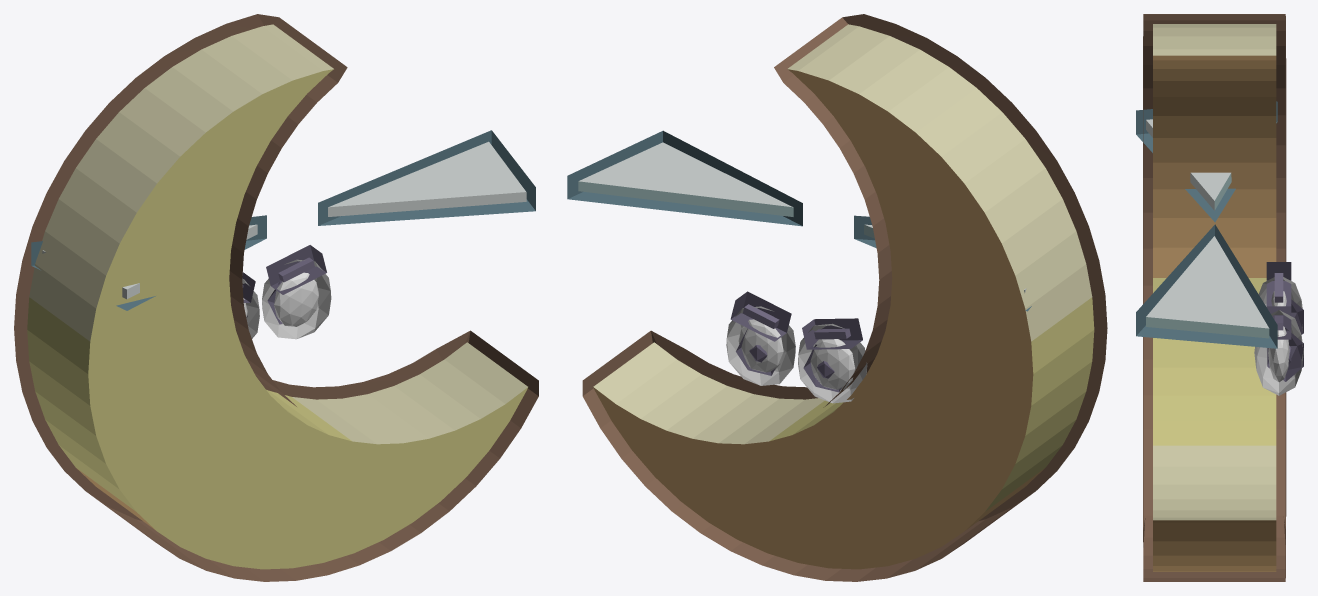
The model's file is enemy_buzzer.glb.
The picture shows the model from 3 angles, left to right: view 1: azimuth 30°, elevation 25°; view 2: azimuth 150°, elevation 25°; view 3: azimuth 270°, elevation 25°; orthographic projection.
Visible parts, largest first — view 1: enemy_buzzer; view 2: enemy_buzzer; view 3: enemy_buzzer.
Boxes of the visible parts, box(x1,y1,x2,y2) form: enemy_buzzer: box(14, 14, 538, 581); enemy_buzzer: box(567, 14, 1107, 581); enemy_buzzer: box(1136, 14, 1303, 581).
Size of what is drawn, in the model's own units: 4.03 by 4.14 by 1.22.
